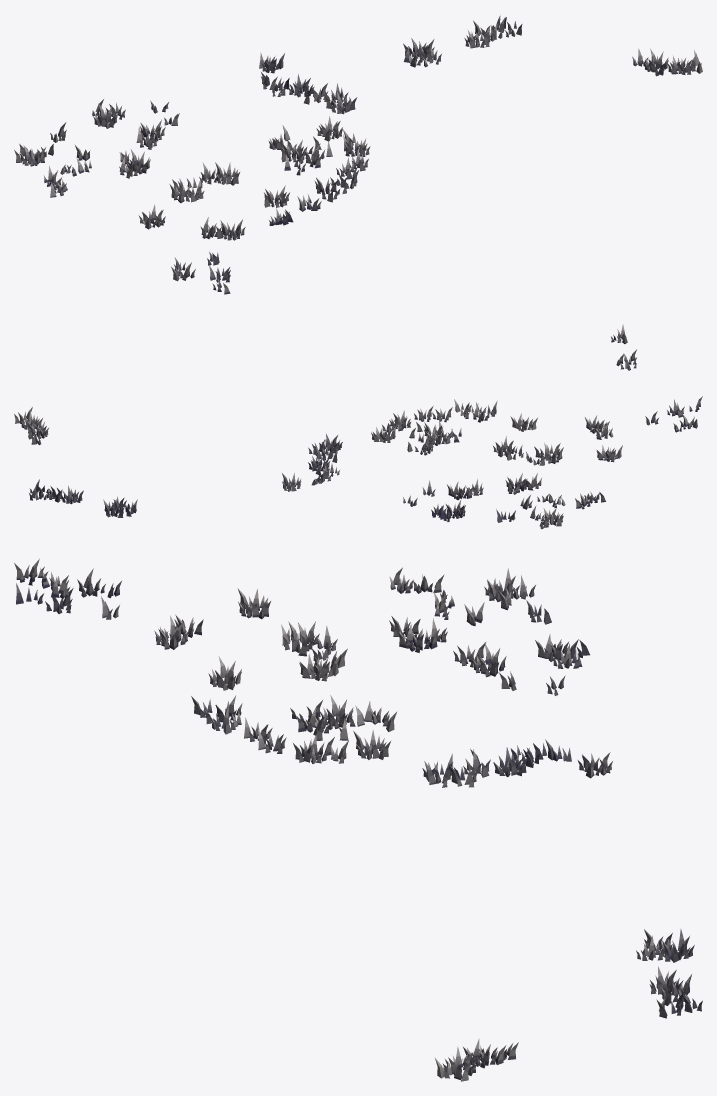
File: Plant_01.FBX
3 renders of one model, top to bottom at view 1: azimuth 30°, elevation 25°; view 2: azimuth 150°, elevation 25°; view 3: azimuth 270°, elevation 25°, orthographic. The views are drawn at different scales.
Visible parts, largest first — view 1: Plant_01; view 2: Plant_01; view 3: Plant_01.
Boxes of the visible parts, x1,y1,x2,y2 form: Plant_01: (14, 15, 702, 294); Plant_01: (14, 324, 702, 529); Plant_01: (14, 558, 702, 1081).
Size of the model in its own units: 35.35 by 6.48 by 23.77.
